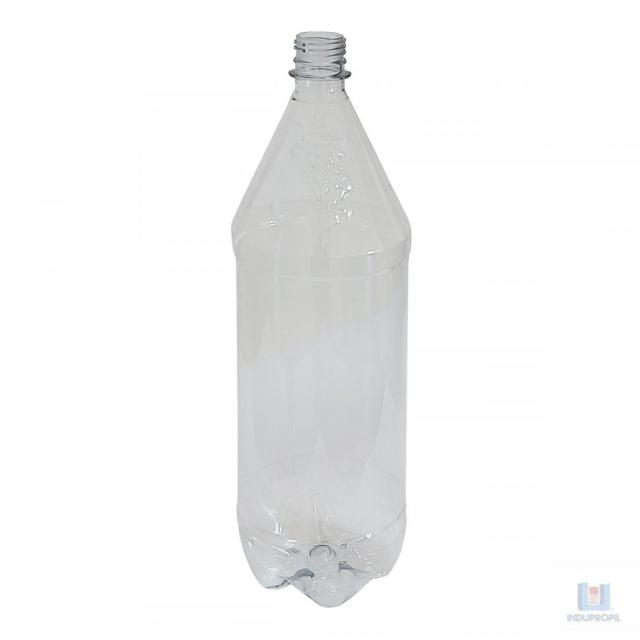bottom: (223, 506, 435, 615)
no_cap: (277, 23, 362, 105)
